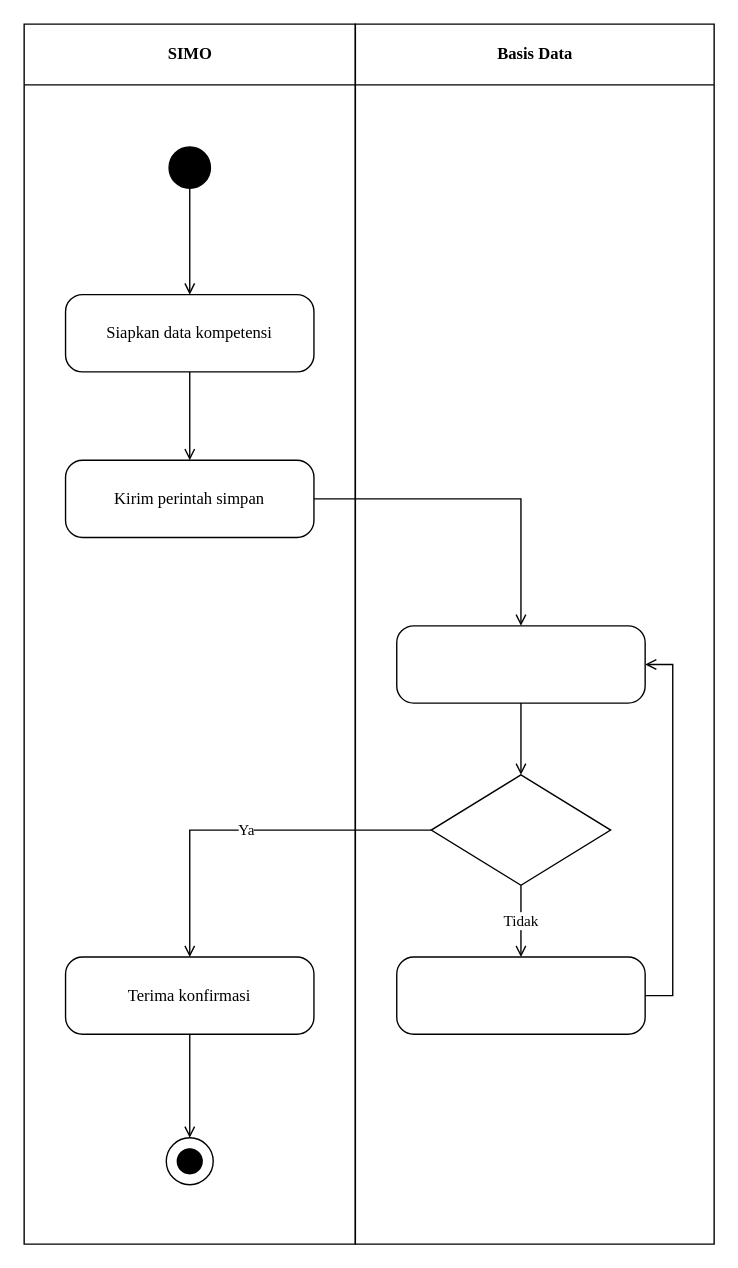
Some shapes in this 738 by 1268 pixel diagram are drawn without their labels. The shapes that lost their labels are listed below. From the top down, each one's centre as x and y in pixels, then its label:
the point at 520,663: Tulis dan indeks data
the point at 520,829: Berhasil?
the point at 520,995: Catat error, ulangi
